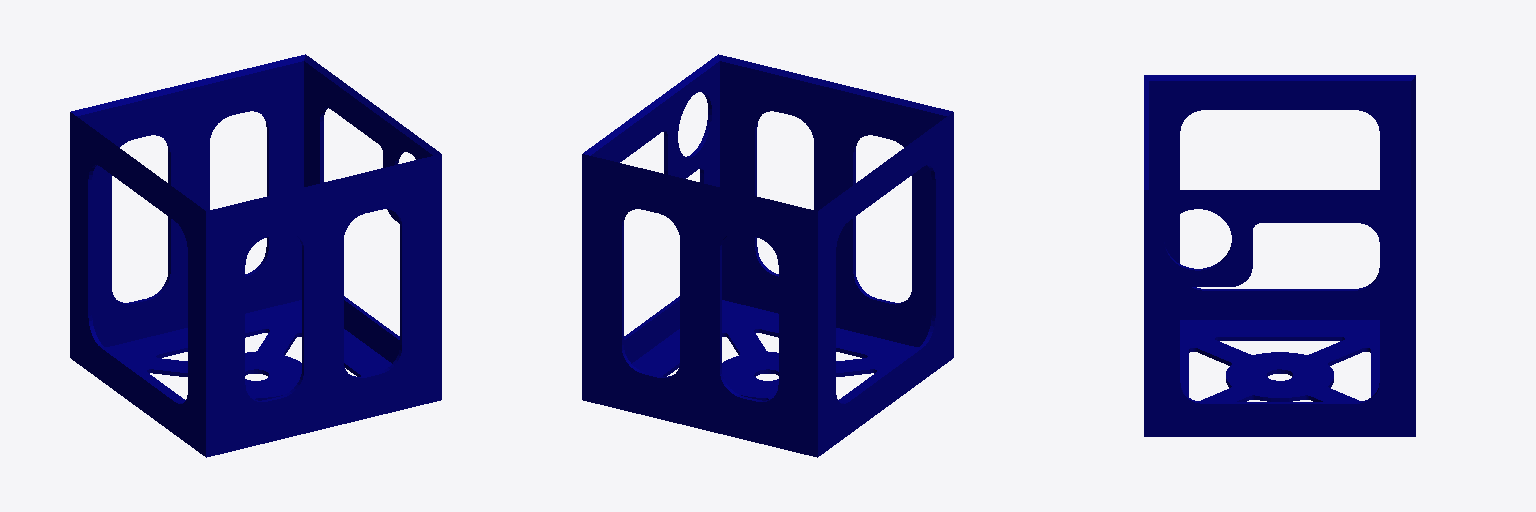
Rendered from cubesatobj.obj.
3 renders of one model, left to right at view 1: azimuth 30°, elevation 25°; view 2: azimuth 150°, elevation 25°; view 3: azimuth 270°, elevation 25°, orthographic.
Parts seen in each view (by area): view 1: carcasa_prueba; view 2: carcasa_prueba; view 3: carcasa_prueba.
Part boxes in pixels (x1,y1,x2,y2): carcasa_prueba: (70,54,441,457); carcasa_prueba: (582,54,953,457); carcasa_prueba: (1144,75,1415,436).
Size of the model in its own units: 300 by 300 by 300.